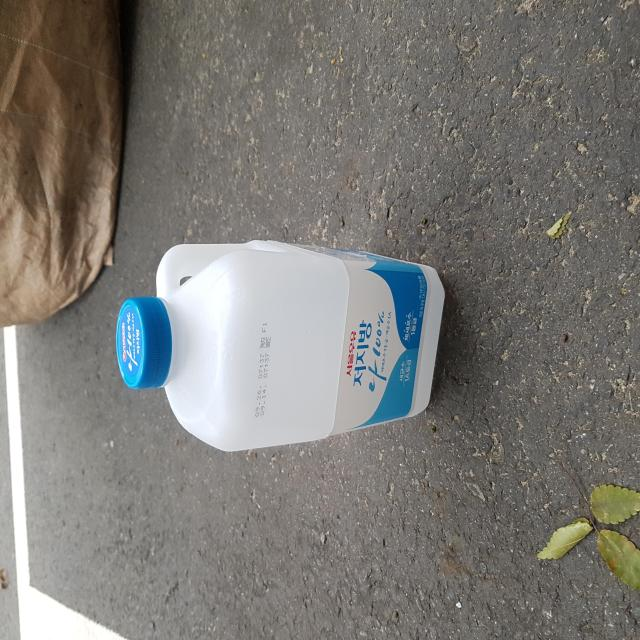plastic: (114, 235, 448, 452)
